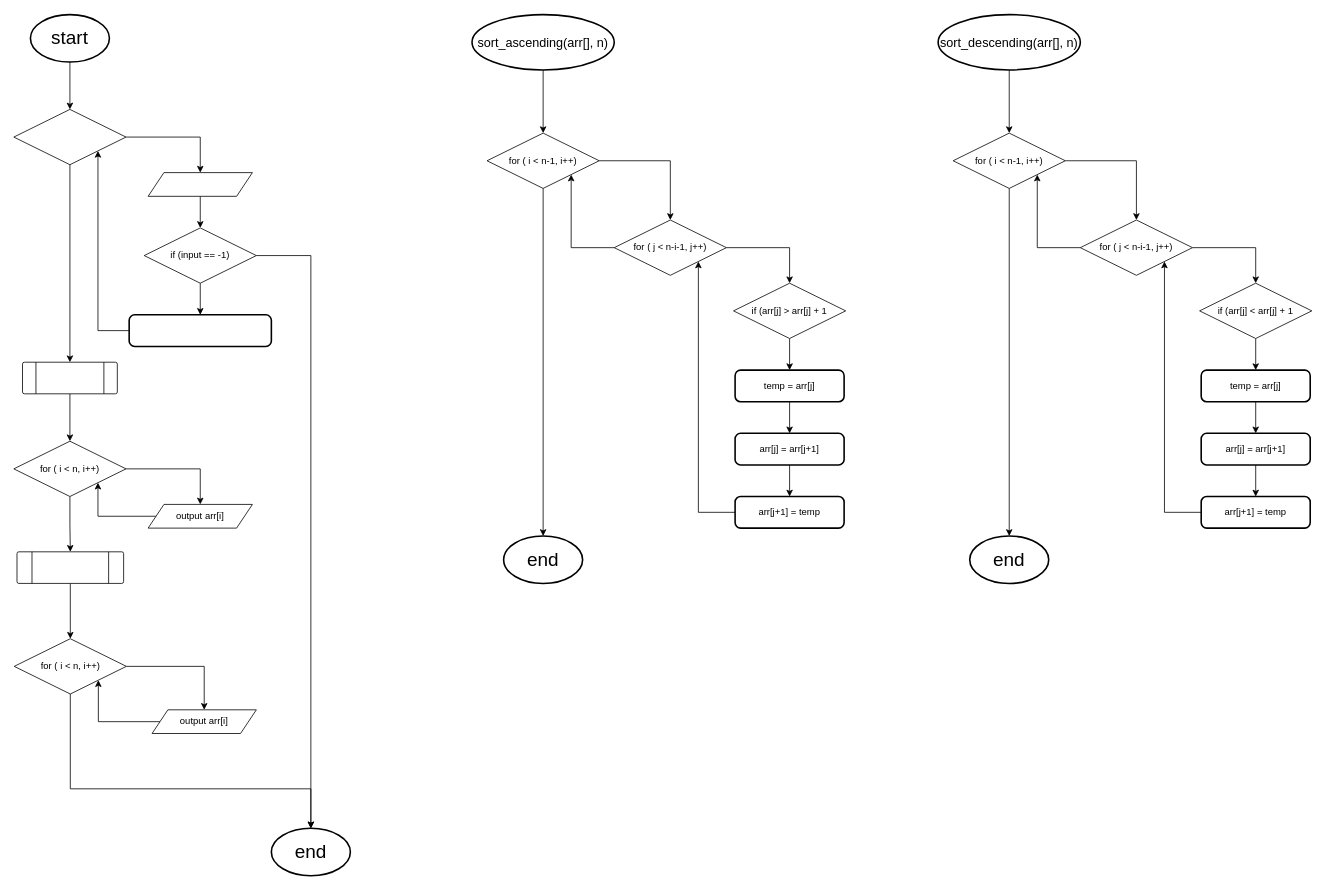
The diagram is 1326 pixels wide and 890 high, and some of its shapes have lost their labels. Each missing label, with the box of its shape:
arr[n++] = input: (128, 314, 272, 347)
input input: (147, 172, 252, 196)
sort_ascending(arr, n): (22, 361, 117, 394)
sort_descending(arr, n): (16, 551, 124, 583)
while (1): (13, 109, 126, 165)
